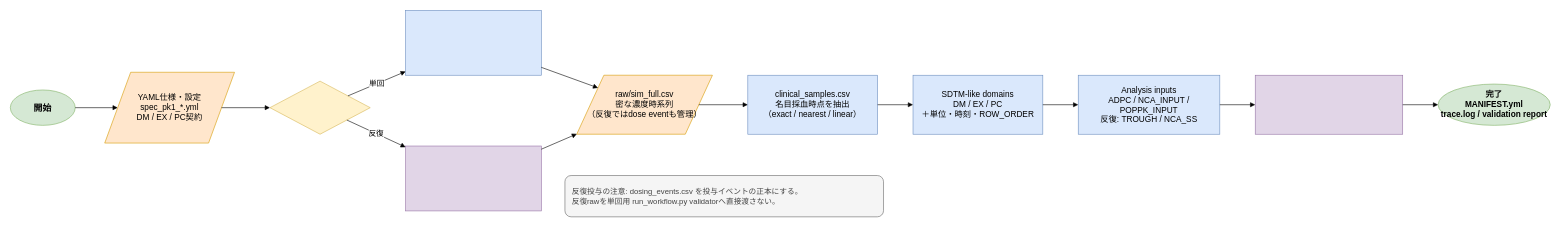
This 1561x227 diagram has some shape labels left out. Each missing label, with the centre of its shape:
"ADNCA・濃度プロット 単回: AUC / Cmax / Tmax / λz 反復: AUCτ,ss / trough / Cmin" goes at point 1329,104.
"単回投与シミュレーション analytical_demo または mrgsolve 経口 / IV / IV点滴" goes at point 473,42.
"反復経口投与シミュレーション 投与イベントを保持 dosing_events.csv" goes at point 473,178.
"試験デザイン" goes at point 319,107.
